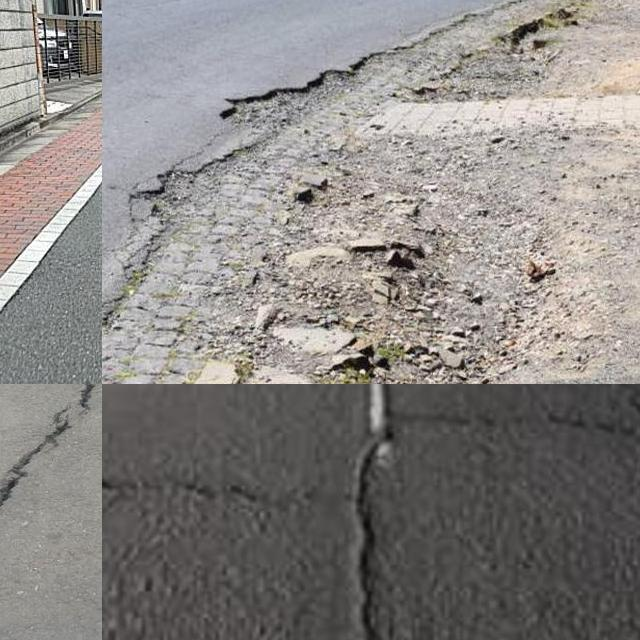Melintang: (102, 455, 322, 522), (390, 402, 640, 457)
Memanjang: (0, 384, 102, 541), (340, 384, 393, 640)
Pinggir: (102, 0, 619, 384)
